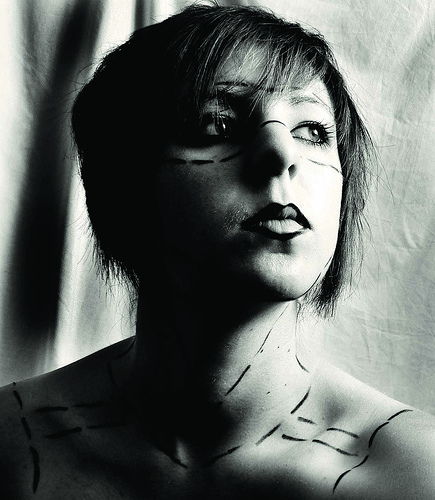without_mask: (105, 27, 374, 345)
